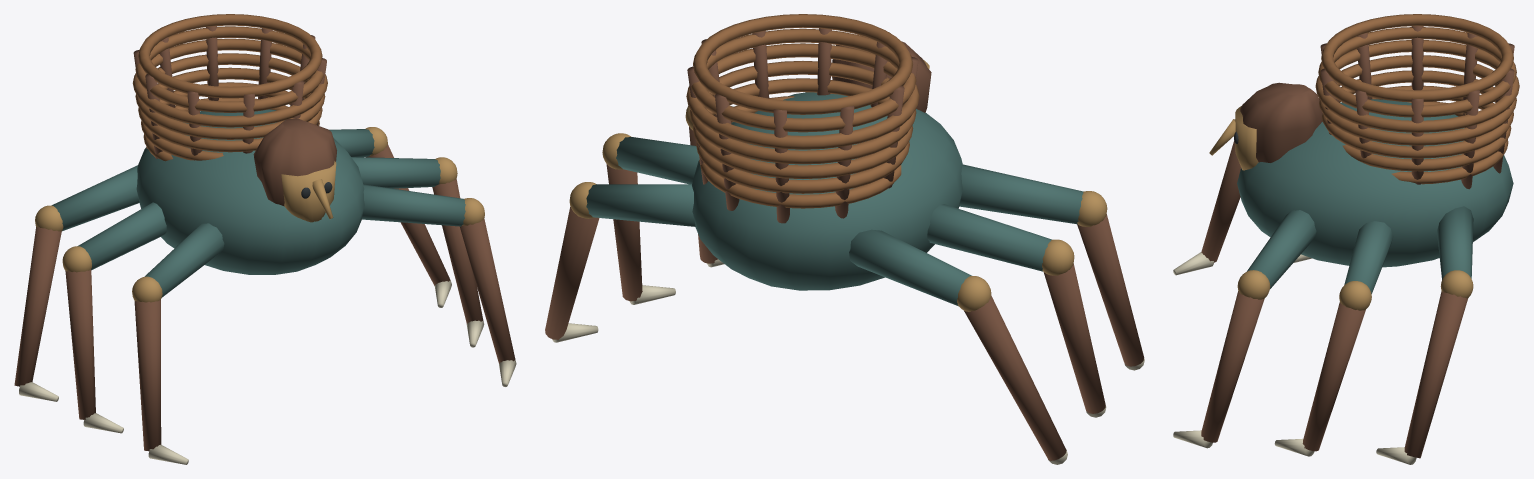
File: collector.glb
3 views of the same model, side by side, from view 1: azimuth 30°, elevation 25°; view 2: azimuth 150°, elevation 25°; view 3: azimuth 270°, elevation 25° (orthographic). The views are drawn at different scales.
Parts seen in each view (by area): view 1: body, leg_l, leg_r; view 2: body, leg_l, leg_r; view 3: body, leg_r, leg_l.
Part boxes in pixels (x1=…): body: x1=132, y1=14, x2=364, y2=274; leg_l: x1=14, y1=165, x2=224, y2=464; leg_r: x1=329, y1=127, x2=516, y2=386; body: x1=686, y1=14, x2=962, y2=290; leg_l: x1=849, y1=164, x2=1144, y2=464; leg_r: x1=545, y1=106, x2=733, y2=342; body: x1=1209, y1=14, x2=1519, y2=267; leg_r: x1=1173, y1=206, x2=1473, y2=464; leg_l: x1=1173, y1=94, x2=1355, y2=275.
Size of the model in its own units: 1.86 by 1.19 by 1.23.
